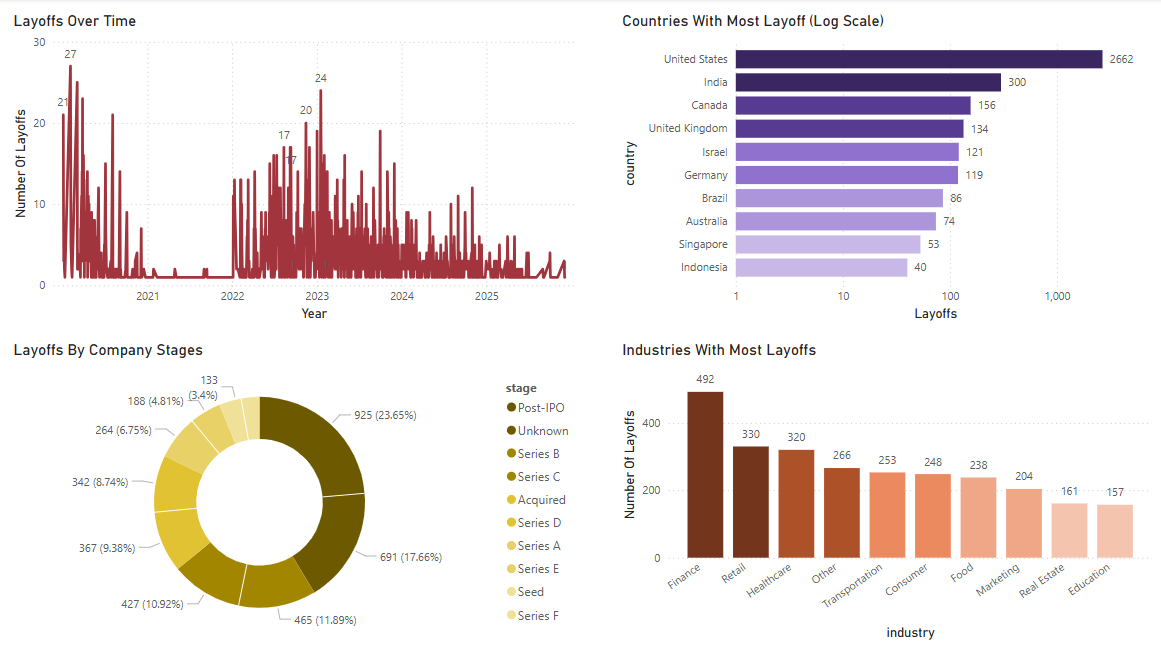

This screenshot's page, from the dashboard's own definition file:
{"tool":"powerbi","page":{"name":"Page 1","canvas":[1280,720],"ordinal":0},"visuals":[{"type":"donutChart","title":"Layoffs By Company Stages","fields":{"Category":["layoffs1.stage"],"Y":["CountNonNull(layoffs1.total_laid_off)"]},"box":[11,376,628.5,334.8],"z":0},{"type":"clusteredBarChart","title":"Countries With Most Layoff (Log Scale)","fields":{"Category":["layoffs1.country"],"Y":["CountNonNull(layoffs1.total_laid_off)"]},"box":[679.2,15.1,588.7,344.4],"z":1000},{"type":"lineChart","title":"Layoffs Over Time","fields":{"Category":["layoffs1.date"],"Y":["CountNonNull(layoffs1.total_laid_off)"]},"box":[11,15.1,628.5,344.4],"z":2000},{"type":"columnChart","title":"Industries With Most Layoffs","fields":{"Category":["layoffs1.industry"],"Y":["CountNonNull(layoffs1.total_laid_off)"]},"box":[679.2,376,591.4,333.4],"z":3000}]}

Visuals, with their boxes in screenshot pixels (x1, y1, x2, y2), scaled from the page's 1280x720 canvas onto the 1161x650 screenshot:
"Layoffs By Company Stages" donutChart: crop(10, 339, 580, 642)
"Countries With Most Layoff (Log Scale)" clusteredBarChart: crop(616, 14, 1150, 325)
"Layoffs Over Time" lineChart: crop(10, 14, 580, 325)
"Industries With Most Layoffs" columnChart: crop(616, 339, 1152, 640)
